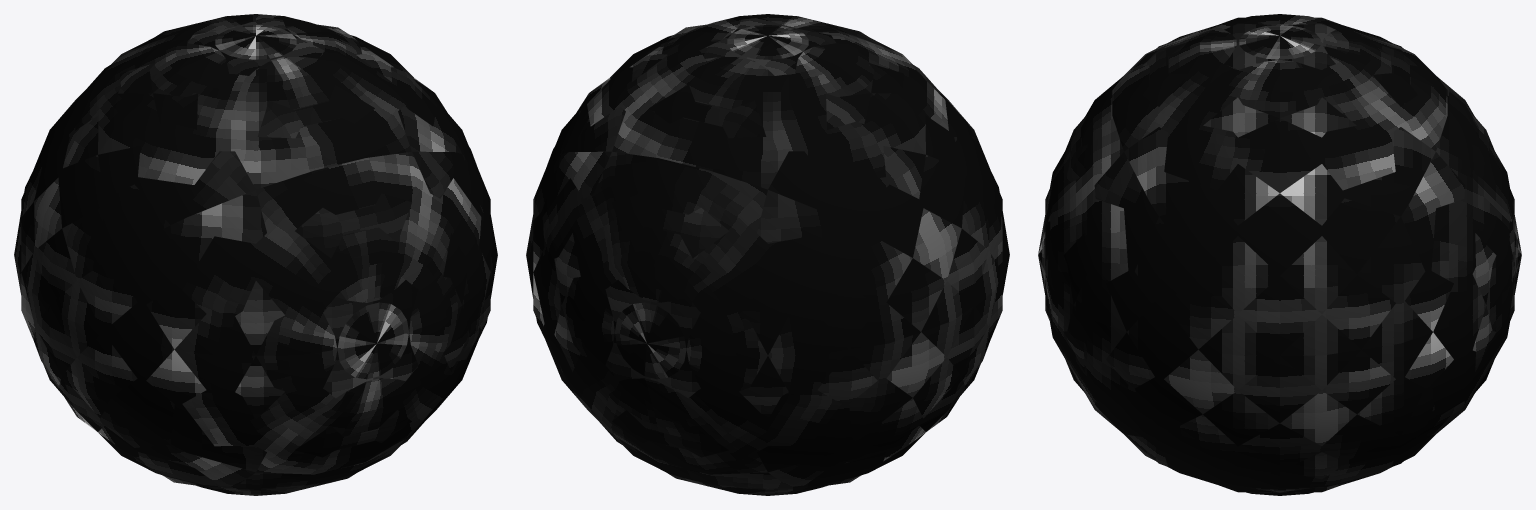
File: proj_waterball.fbx
3 views of the same model, side by side, from view 1: azimuth 30°, elevation 25°; view 2: azimuth 150°, elevation 25°; view 3: azimuth 270°, elevation 25° (orthographic).
Parts seen in each view (by area): view 1: sphere_18pl (×2); view 2: sphere_18pl (×2); view 3: sphere_18pl (×2).
Boxes of the visible parts, x1=… form: sphere_18pl (×2): x1=14, y1=14, x2=497, y2=495; sphere_18pl (×2): x1=526, y1=14, x2=1009, y2=495; sphere_18pl (×2): x1=1038, y1=14, x2=1521, y2=495.
Bounding box in the file's own units: 0.7878 × 0.8 × 0.8.
1 material, 1 textured.
